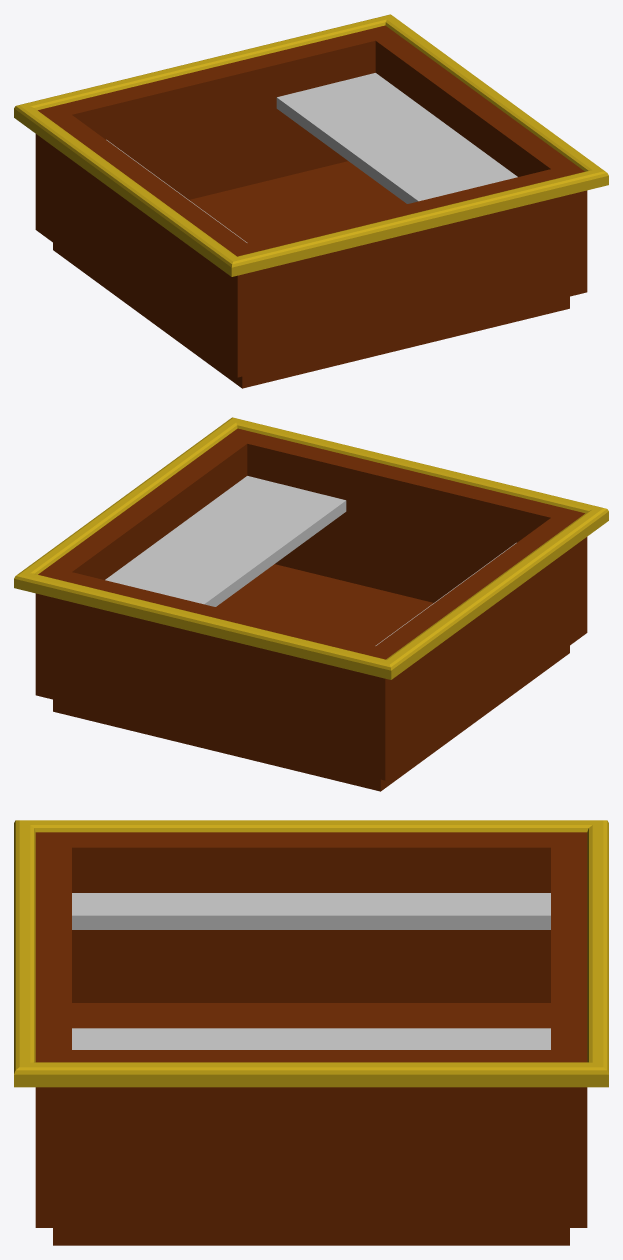
File: Rezeption.fbx
The picture shows the model from 3 angles, top to bottom: view 1: azimuth 30°, elevation 25°; view 2: azimuth 150°, elevation 25°; view 3: azimuth 270°, elevation 25°; orthographic projection. The views are drawn at different scales.
Visible parts, largest first — view 1: Rezeption; view 2: Rezeption; view 3: Rezeption.
Part boxes in pixels (x1,y1,x2,y2): Rezeption: [14, 14, 608, 388]; Rezeption: [14, 417, 608, 791]; Rezeption: [14, 820, 608, 1245].
Bounding box in the file's own units: 216 × 77.16 × 216.
